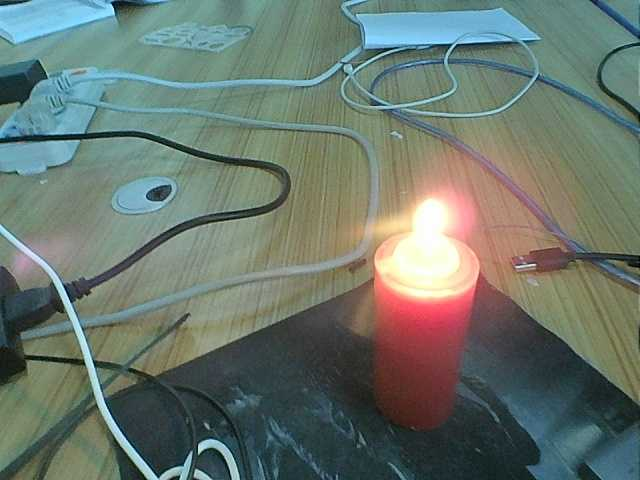candle: (348, 288, 491, 430)
fire: (384, 198, 475, 282)
